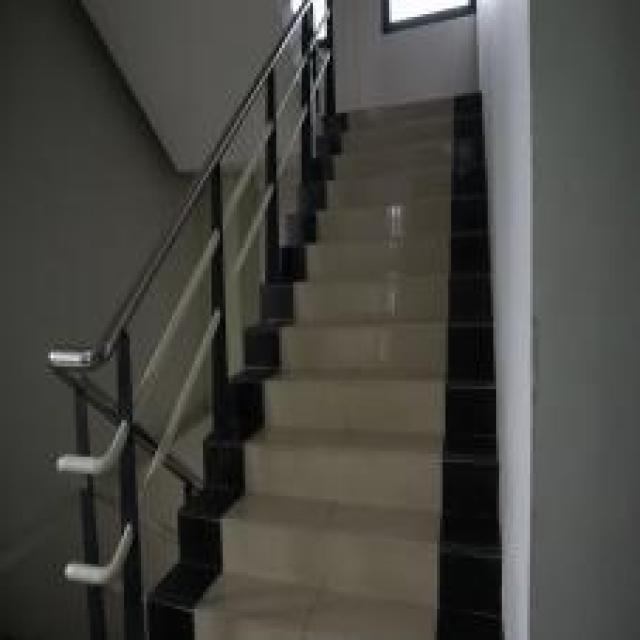upstair: (314, 100, 494, 638)
